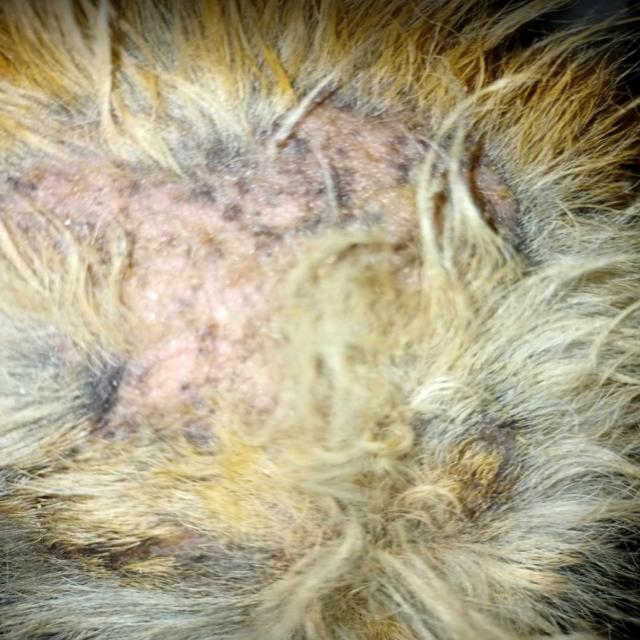demodicosis: (19, 95, 457, 394)
